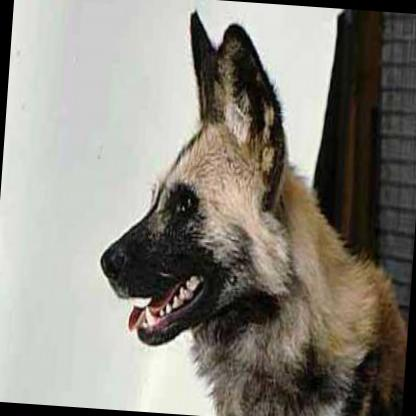African_hunting_dog: (86, 0, 416, 416)
